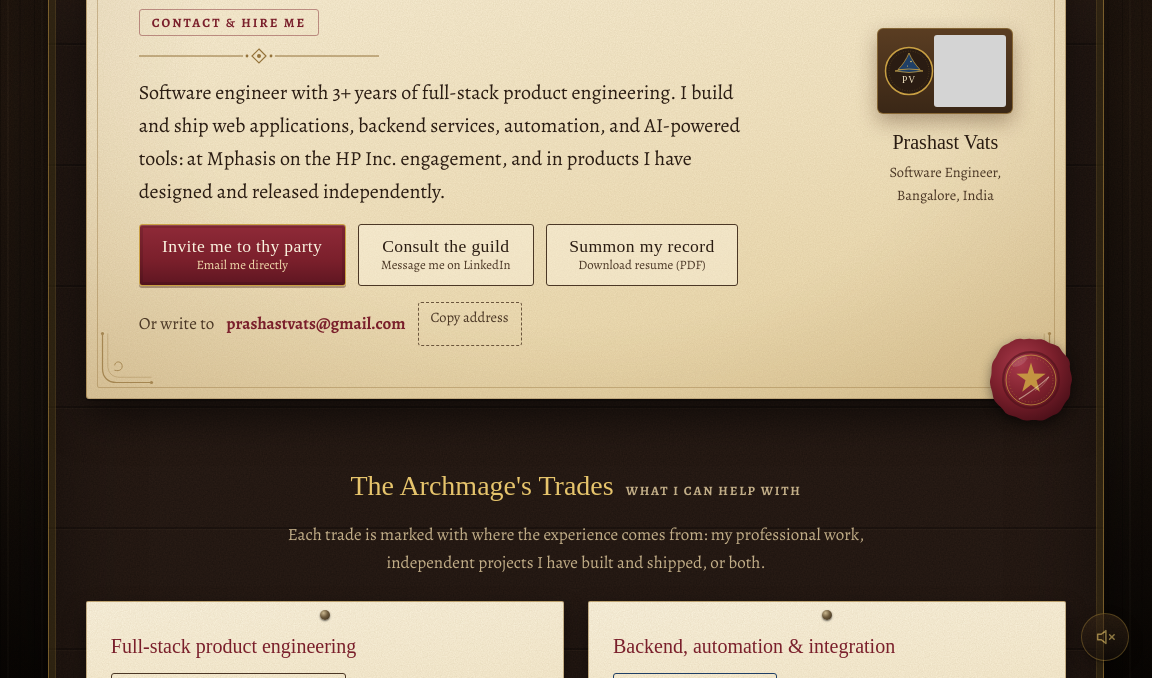
Test: copying the address › reports a failed copy instead of claiming success
The image size is (1152, 678).
(page scrolled)
What coordinates should you click on to do the following:
click the button "Copy address"
I would click on:
 (470, 324)
Its box is [418,302,522,346].
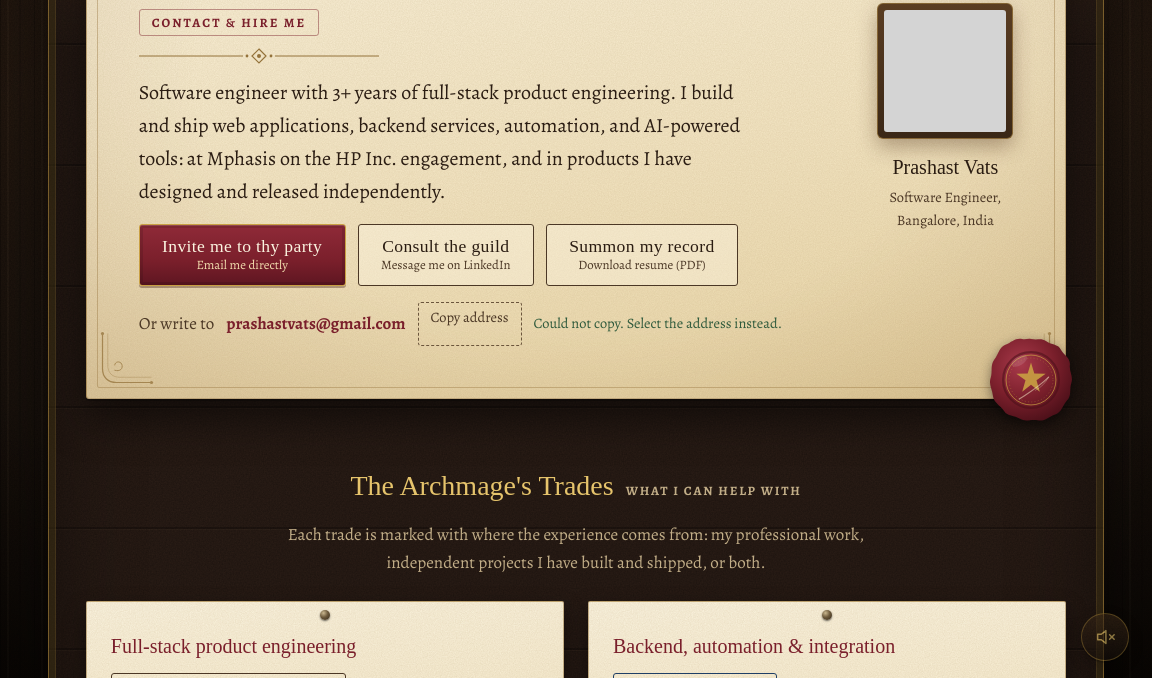
expect the text "Could not copy. Select the address instead." is shown: met, box [534,312,782,336]
